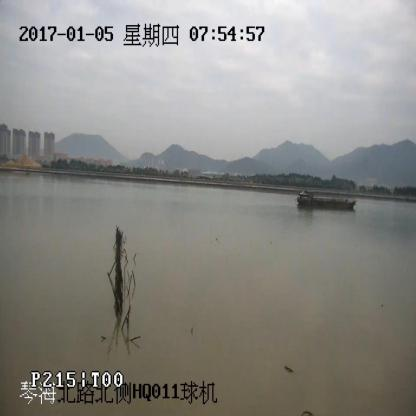Bulk Carrier: (296, 191, 356, 210)
